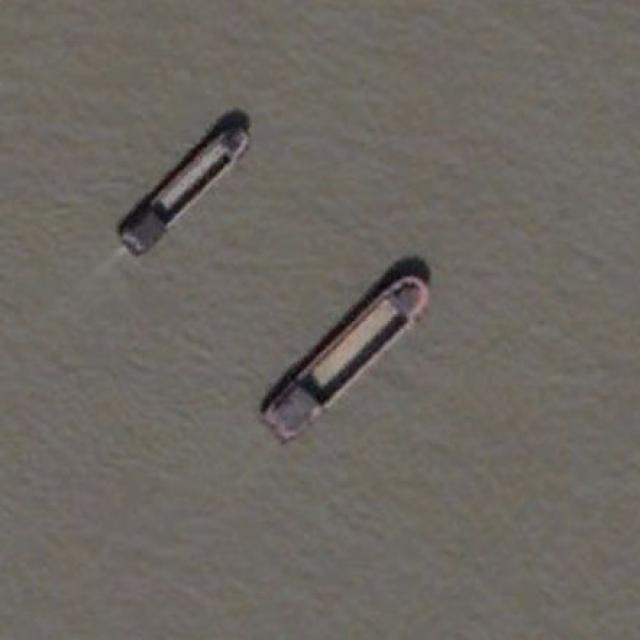ship: (258, 267, 432, 446), (118, 114, 254, 258)
